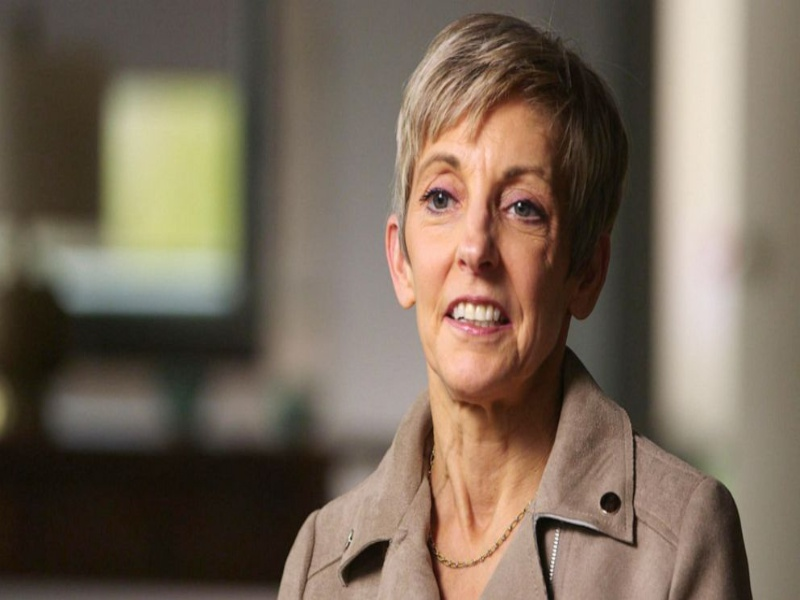TsisyArotava: (376, 86, 602, 422)
